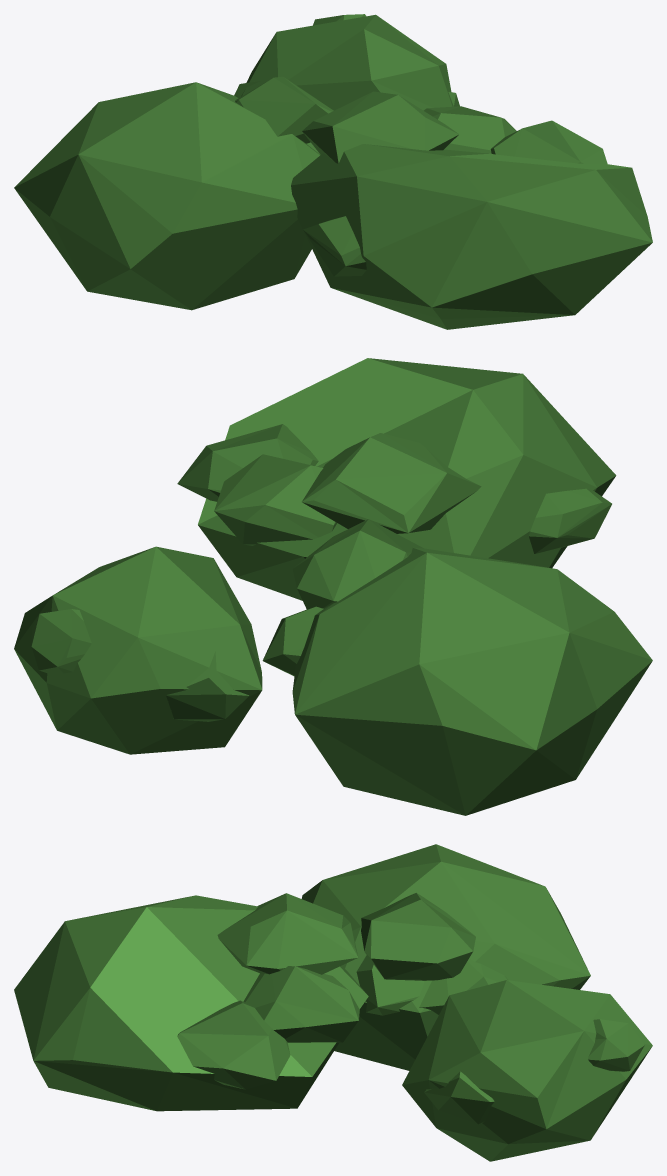
Rendered from Leaves_C.glb.
The picture shows the model from 3 angles, top to bottom: view 1: azimuth 30°, elevation 25°; view 2: azimuth 150°, elevation 25°; view 3: azimuth 270°, elevation 25°; orthographic projection. The views are drawn at different scales.
Visible parts, largest first — view 1: Leaves; view 2: Leaves; view 3: Leaves.
Part boxes in pixels (x1,y1,x2,y2): Leaves: (14, 14, 652, 329); Leaves: (14, 358, 652, 815); Leaves: (14, 844, 652, 1161).
Size of the model in its own units: 18.73 by 8.88 by 22.93.
